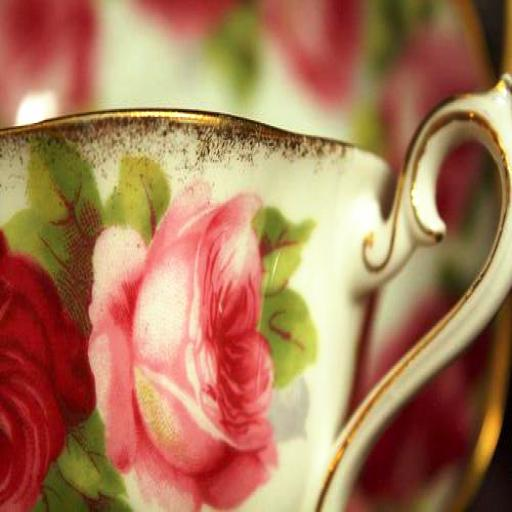rose: (92, 202, 274, 498)
